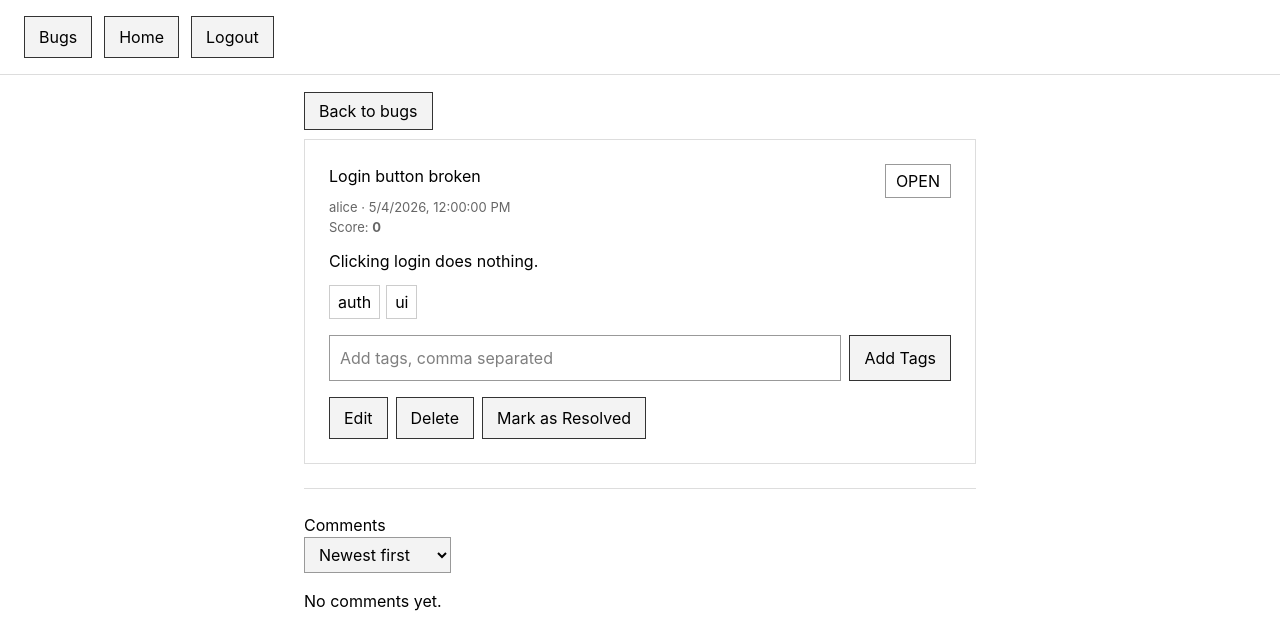
Test case: bugs › edits and deletes the signed-in user's bug
Click the button "Edit": (359, 418) [329, 397, 388, 439]
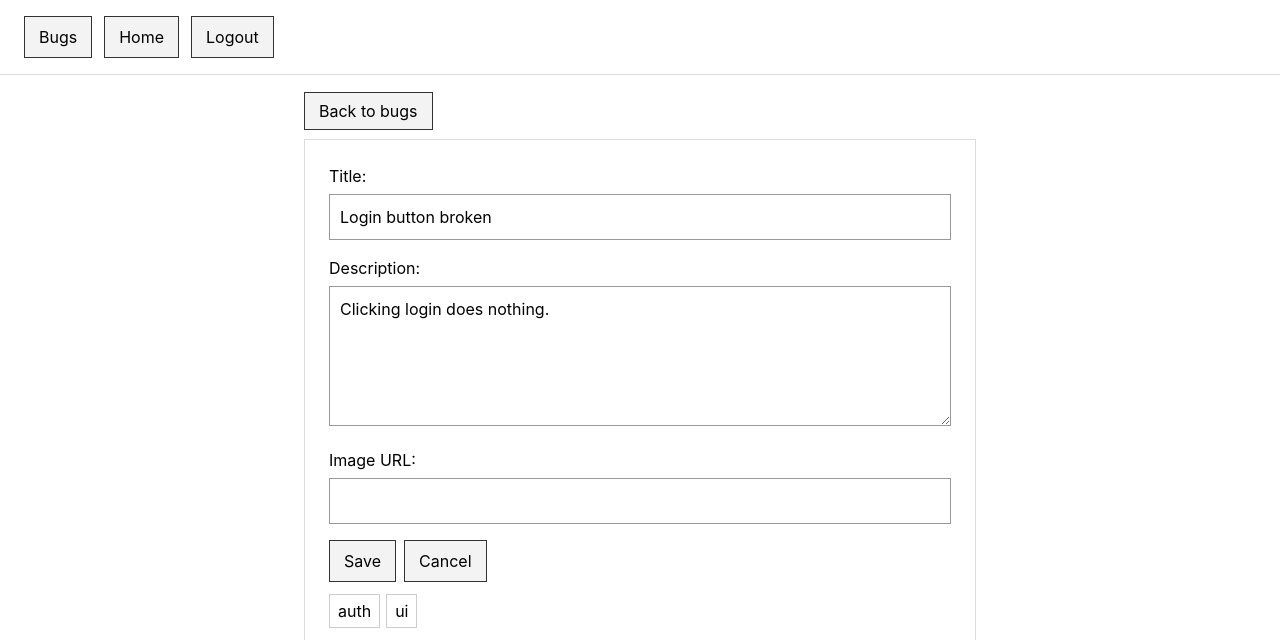
Replace the text in the field named "Edit bug title" with "Login button fixed title": (640, 217) [329, 194, 951, 240]
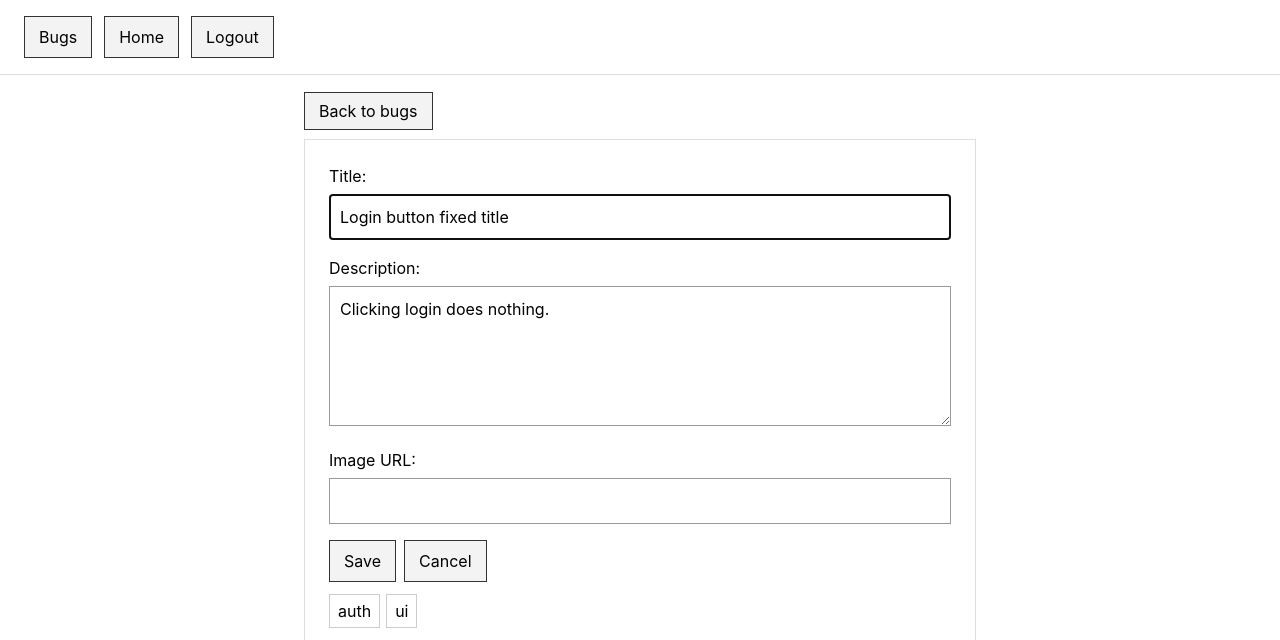
Click the button "Save": (363, 561) [329, 540, 396, 582]
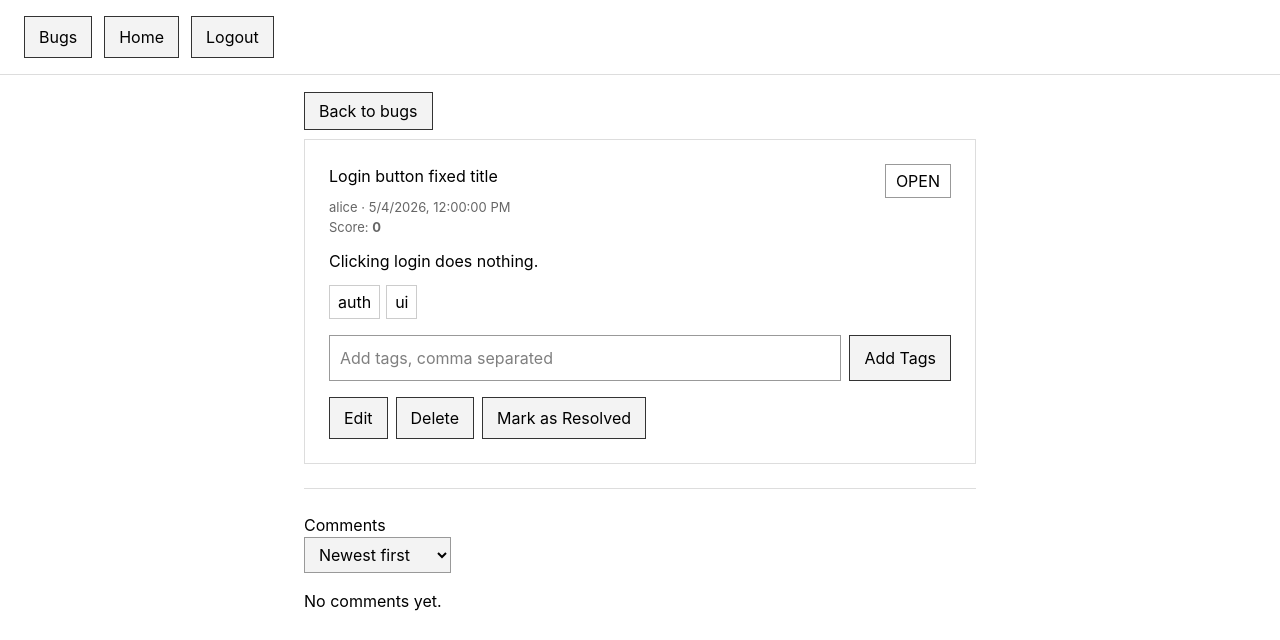
Expected: the heading "Login button fixed title" is shown, [329, 166, 498, 186]
Click the button "Delete": (436, 418) [396, 397, 475, 439]
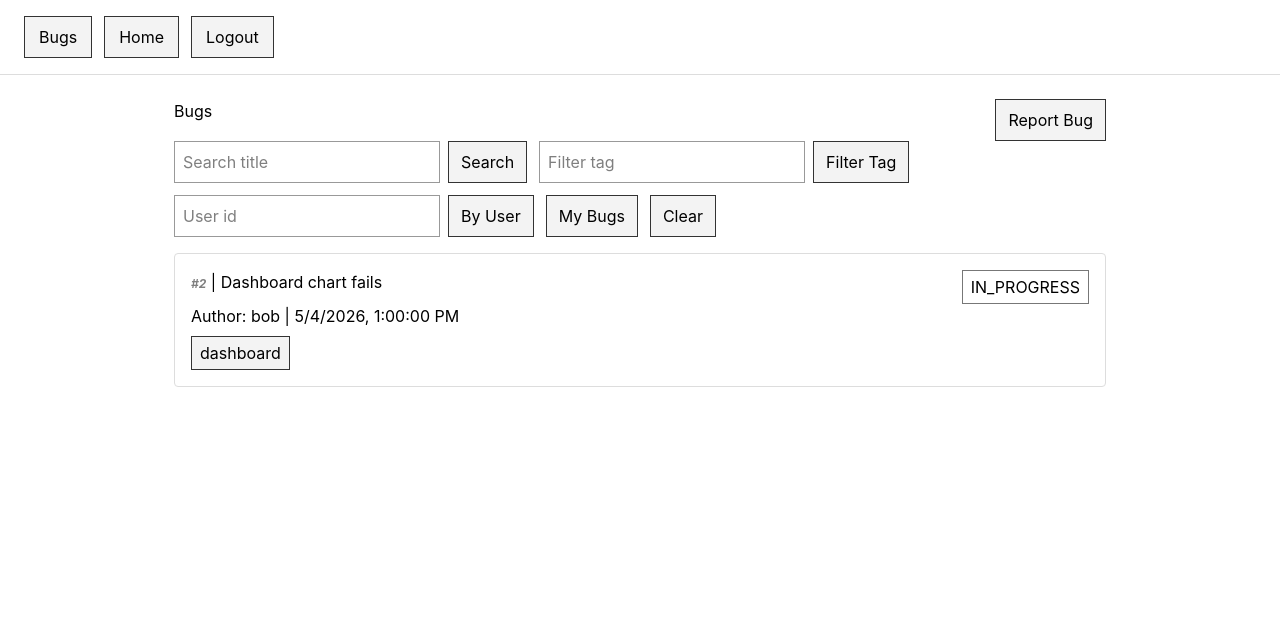
Expected: the heading "Login button fixed title" is gone
